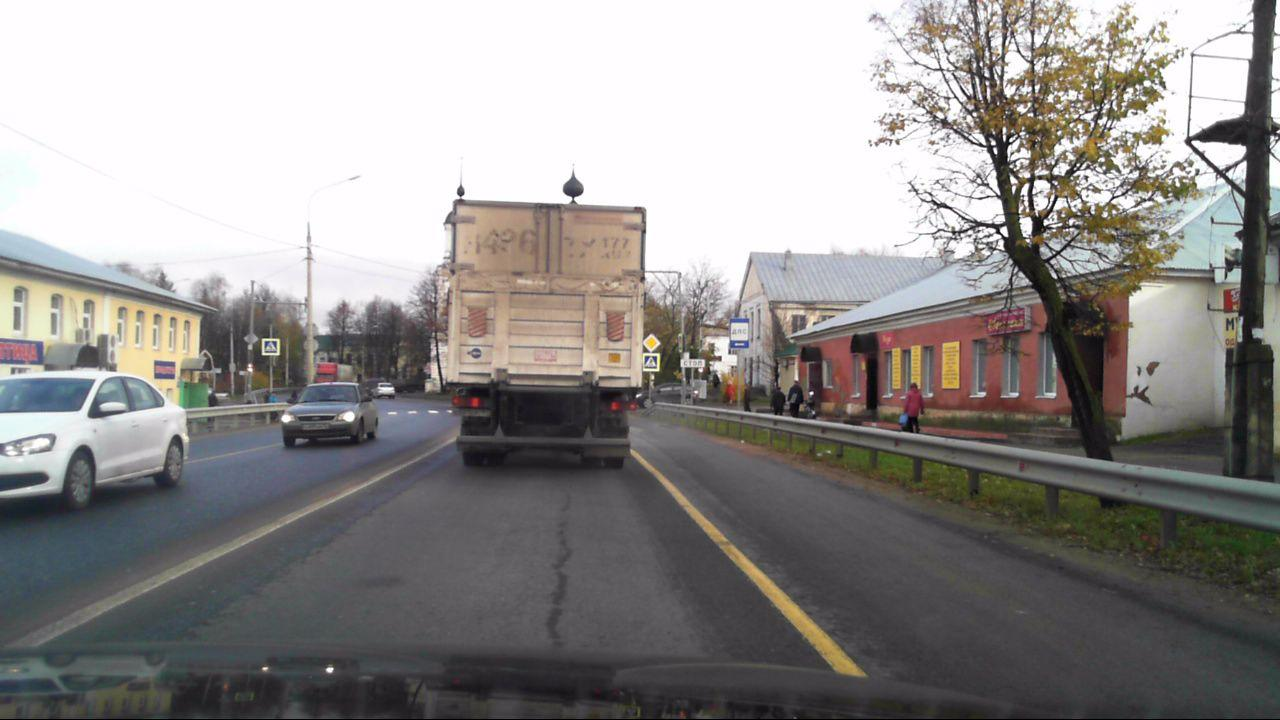2_1: (643, 333, 661, 352)
5_19_1: (644, 355, 658, 369)
5_19_2: (264, 340, 278, 354)
6_16: (681, 359, 706, 368)
7_12: (728, 318, 750, 348)
